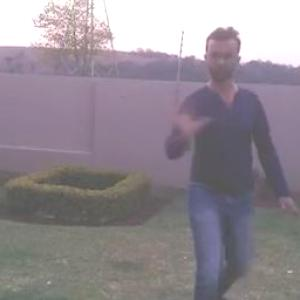follow_hand: (166, 93, 208, 137)
